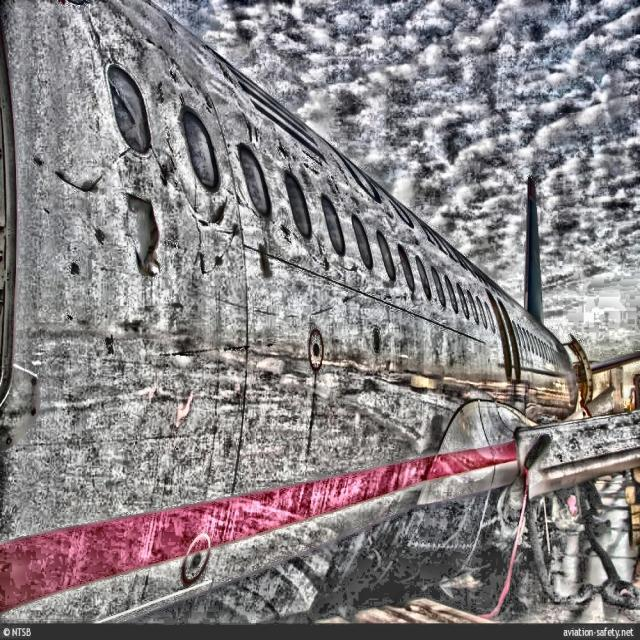crack: (123, 193, 166, 281)
